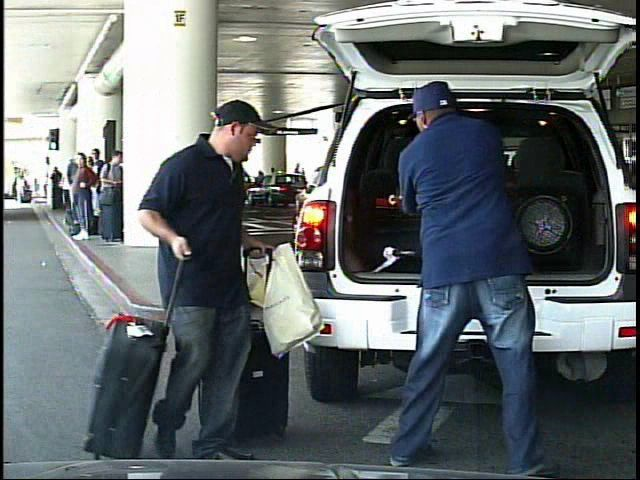person: (378, 75, 563, 478), (134, 102, 270, 459), (292, 162, 305, 198), (16, 172, 27, 203)
